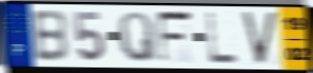5: (72, 10, 107, 63)
B: (30, 8, 71, 64)
F: (155, 9, 196, 66)
L: (205, 10, 241, 65)
Q: (116, 10, 159, 64)
V: (239, 10, 280, 67)
